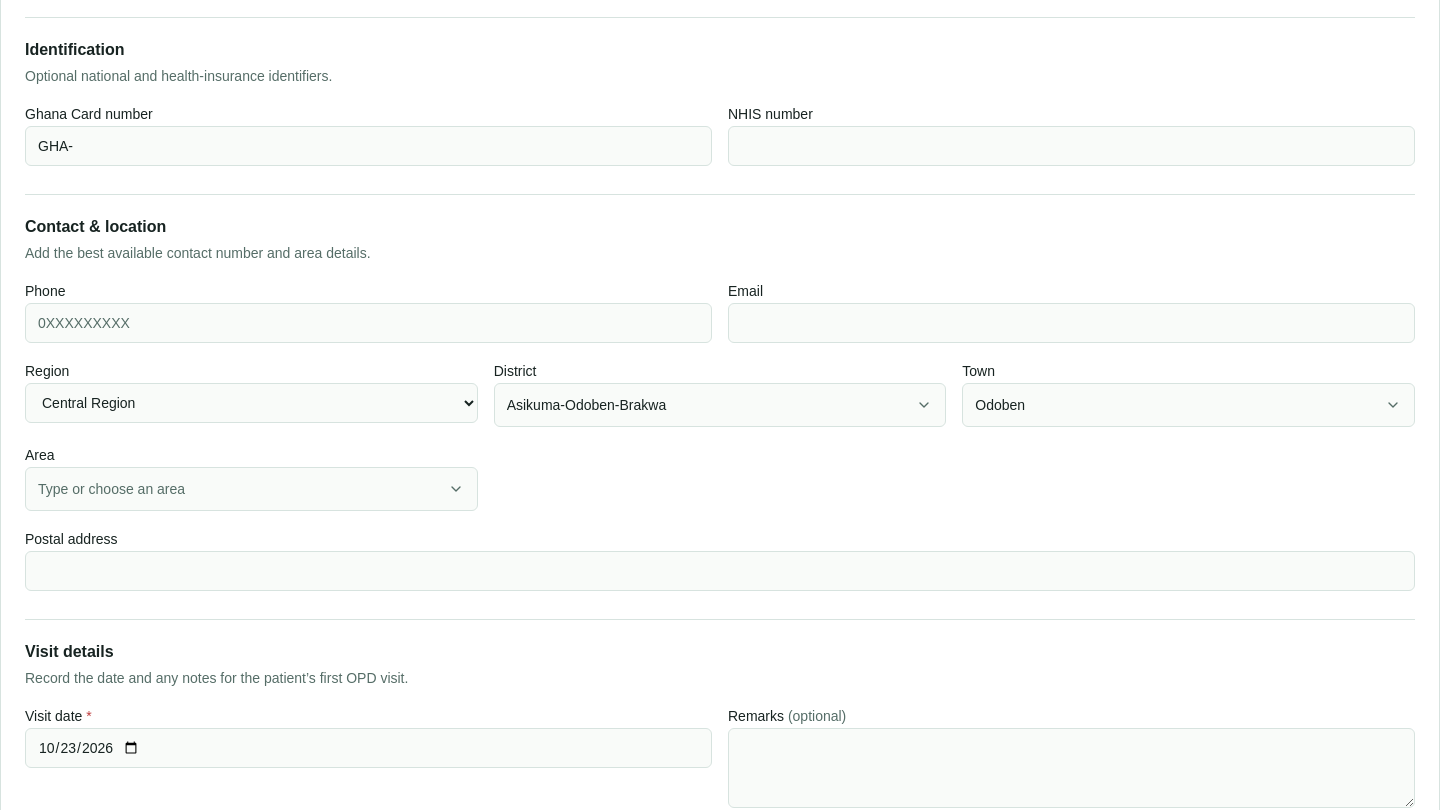
Scenario: PatientForm defaults and guidance › selects district and town suggestions and updates dependent location fields
(page scrolled)
Click the button named "Show district suggestions": (924, 405) [902, 383, 946, 427]
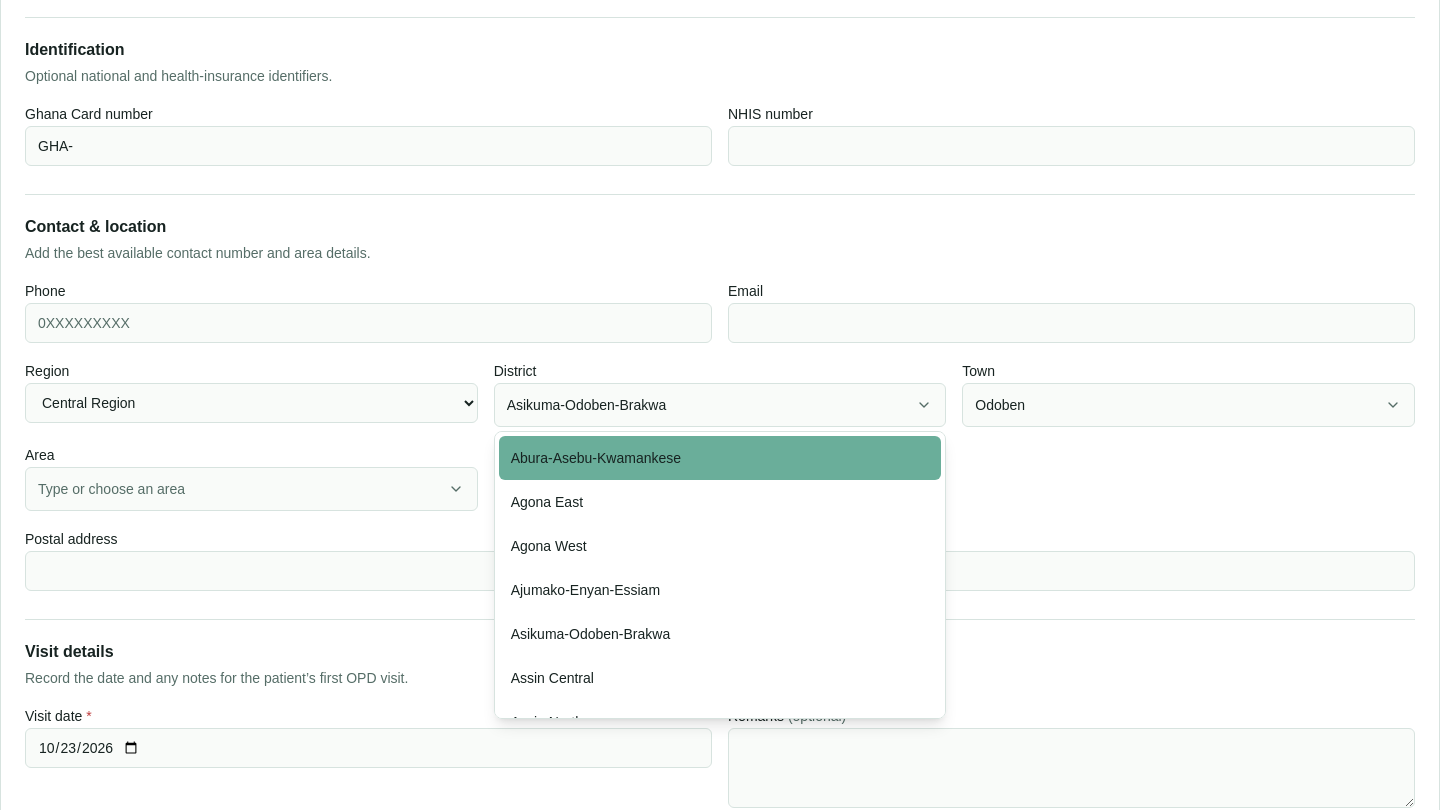
Click the option "Agona West": (549, 546) [511, 538, 587, 554]
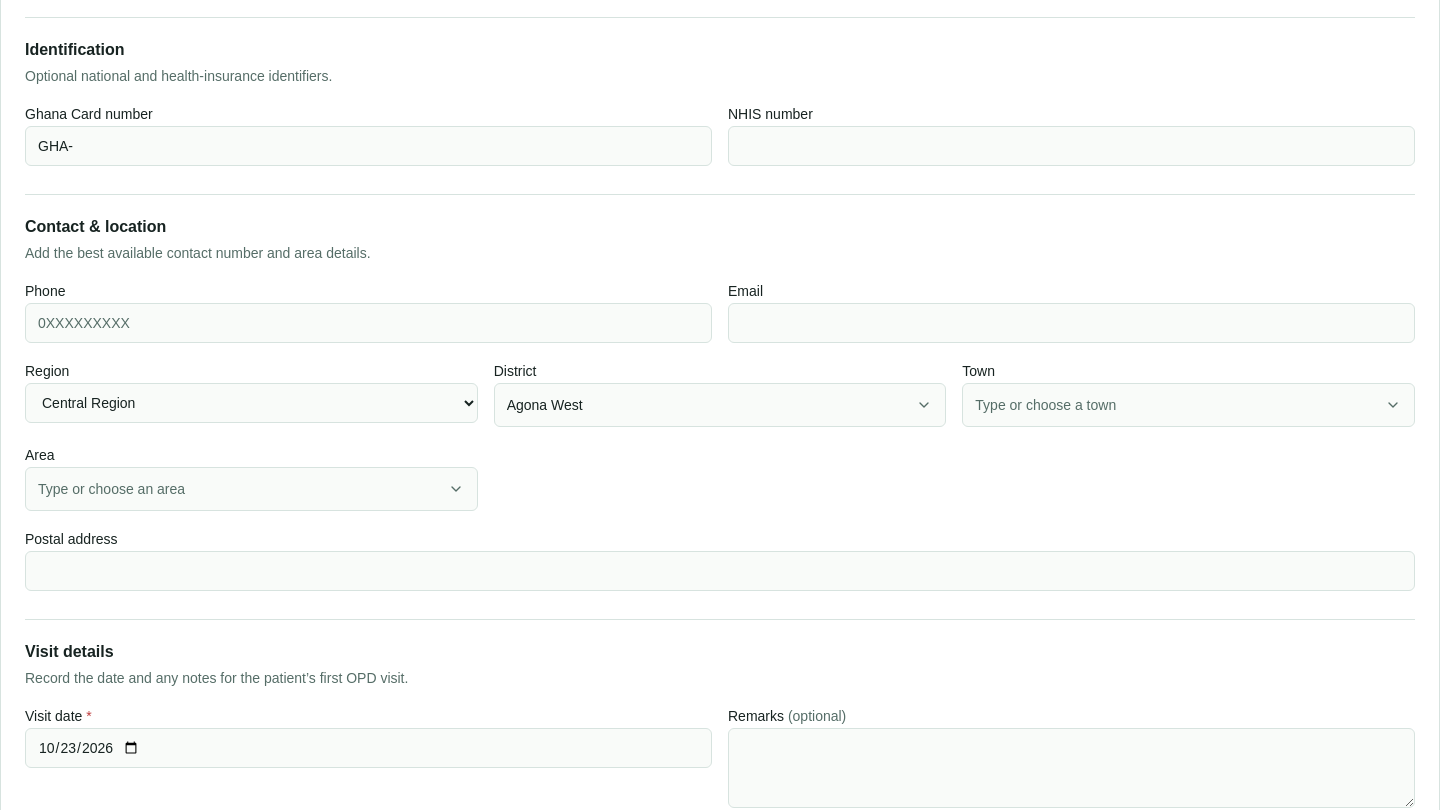
Check: the dropdown labelled "District" holds "Agona West"
Check: the dropdown labelled "Town" is empty, box [962, 383, 1415, 427]
Replace the text in the dropdown labelled "District" with "Asikuma-Odoben-Brakwa": (720, 405) [494, 383, 946, 427]
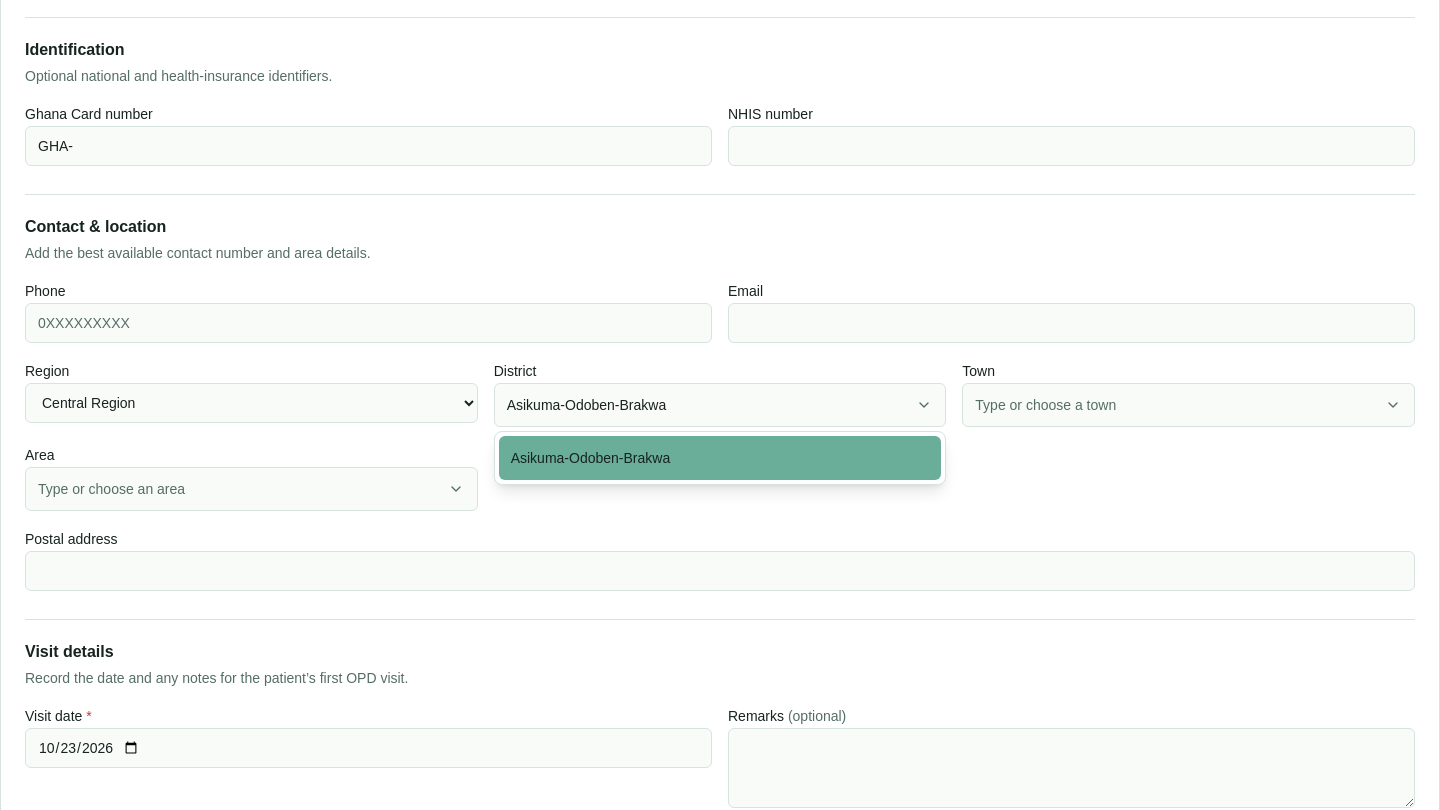
Click the button named "Show town suggestions": (1393, 405) [1371, 383, 1415, 427]
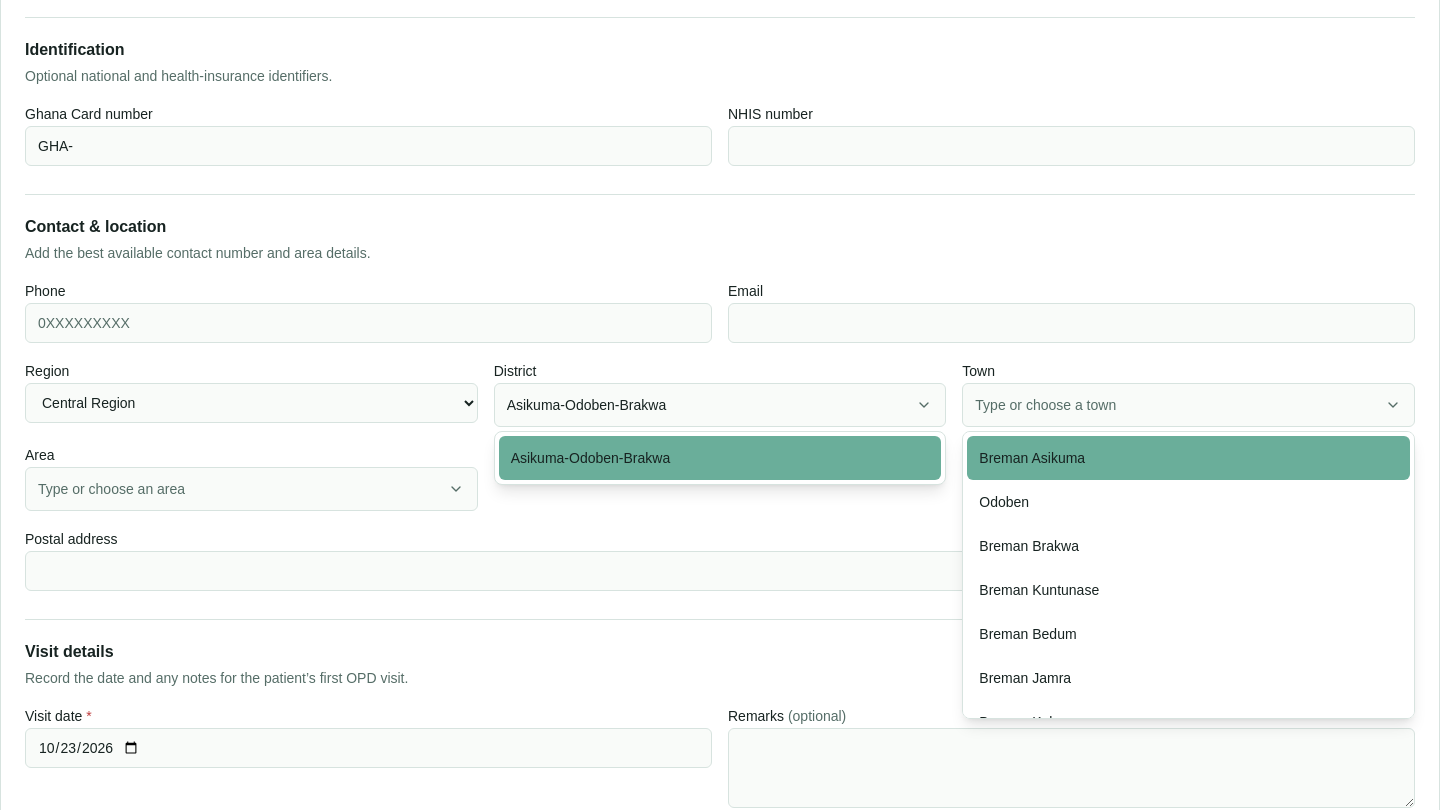
Click the option "Odoben": (1004, 502) [979, 494, 1029, 510]
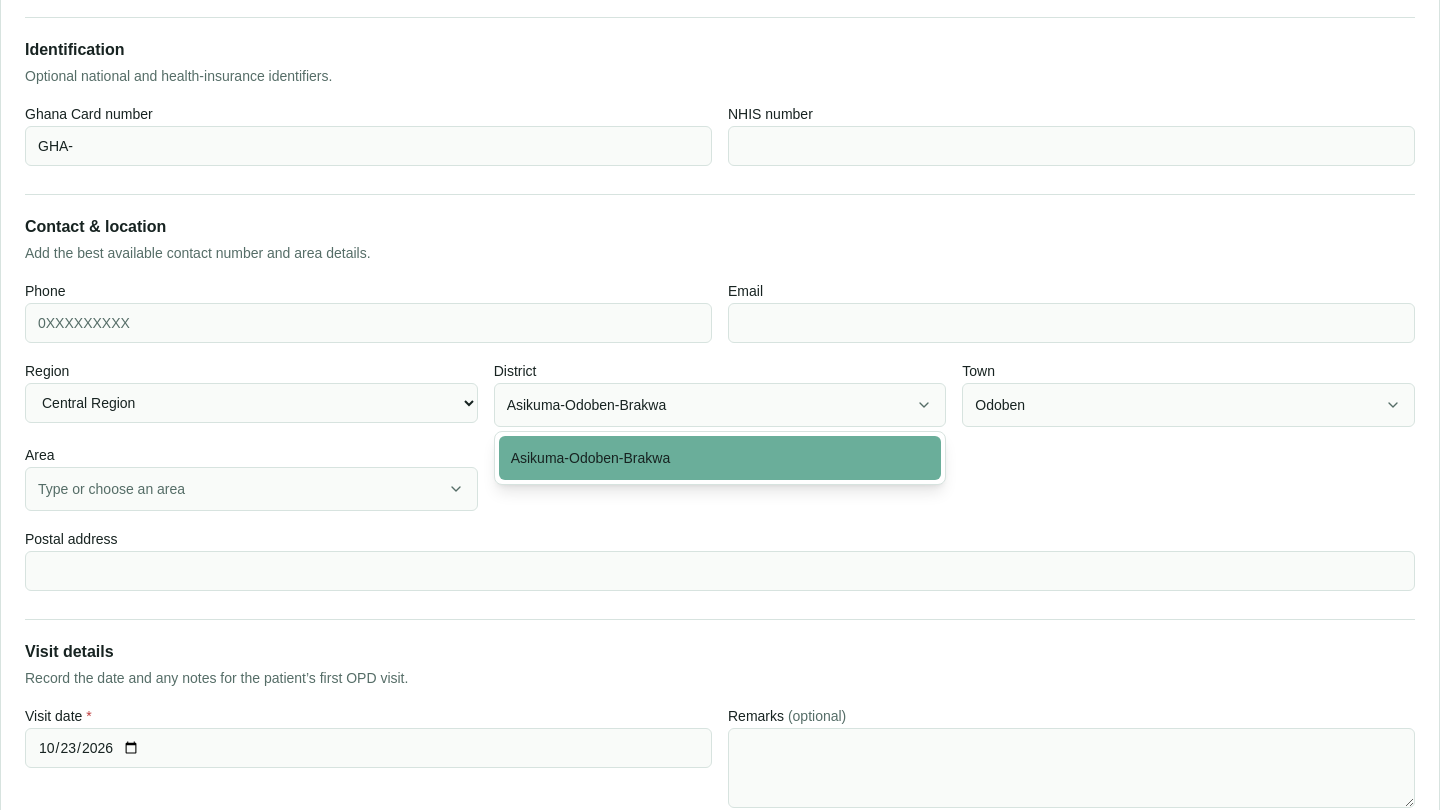
Check: the dropdown labelled "Town" holds "Odoben", box [962, 383, 1415, 427]
